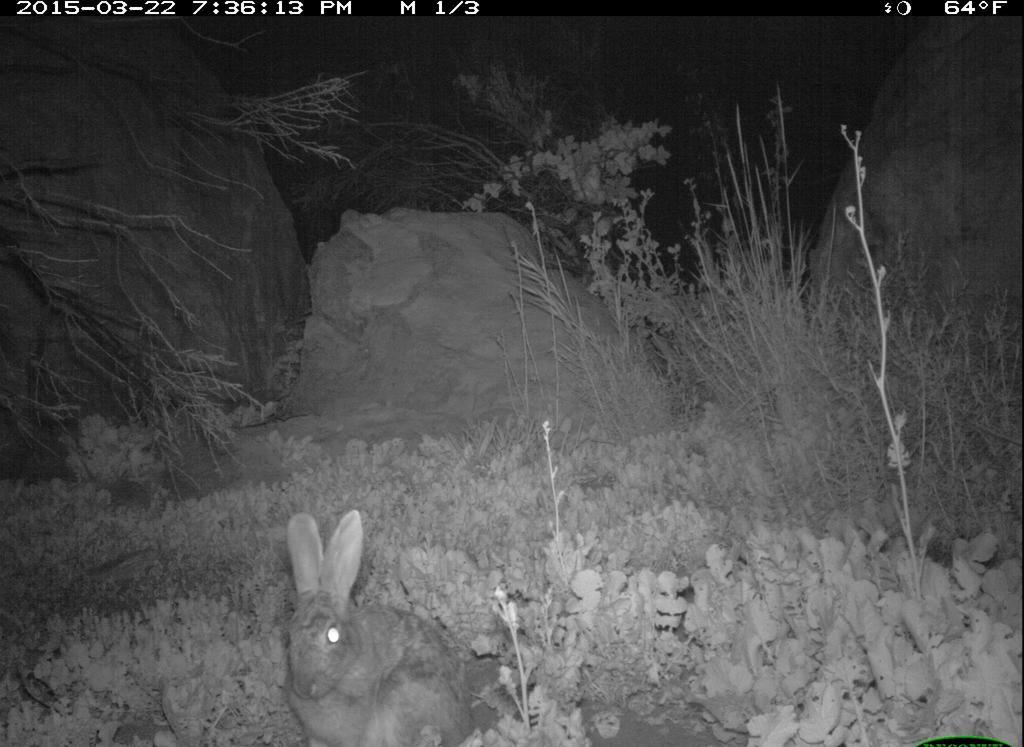rabbit: (264, 498, 486, 737)
